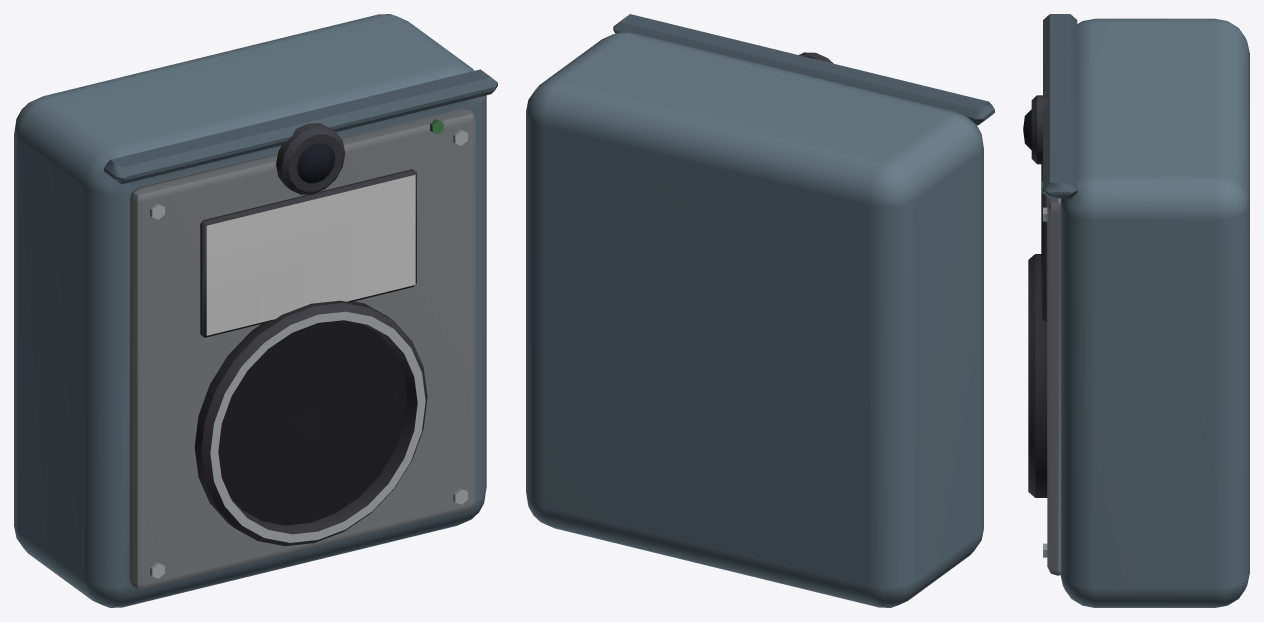
The model's file is IntercomPanel.fbx.
The picture shows the model from 3 angles, left to right: view 1: azimuth 30°, elevation 25°; view 2: azimuth 150°, elevation 25°; view 3: azimuth 270°, elevation 25°; orthographic projection. The views are drawn at different scales.
Visible parts, largest first — view 1: IntercomPanel; view 2: IntercomPanel; view 3: IntercomPanel.
Boxes of the visible parts, bbox=[...] form: IntercomPanel: bbox=[14, 14, 497, 607]; IntercomPanel: bbox=[526, 14, 994, 607]; IntercomPanel: bbox=[1023, 14, 1249, 607].
Bounding box in the file's own units: 0.5 × 0.55 × 0.263.
